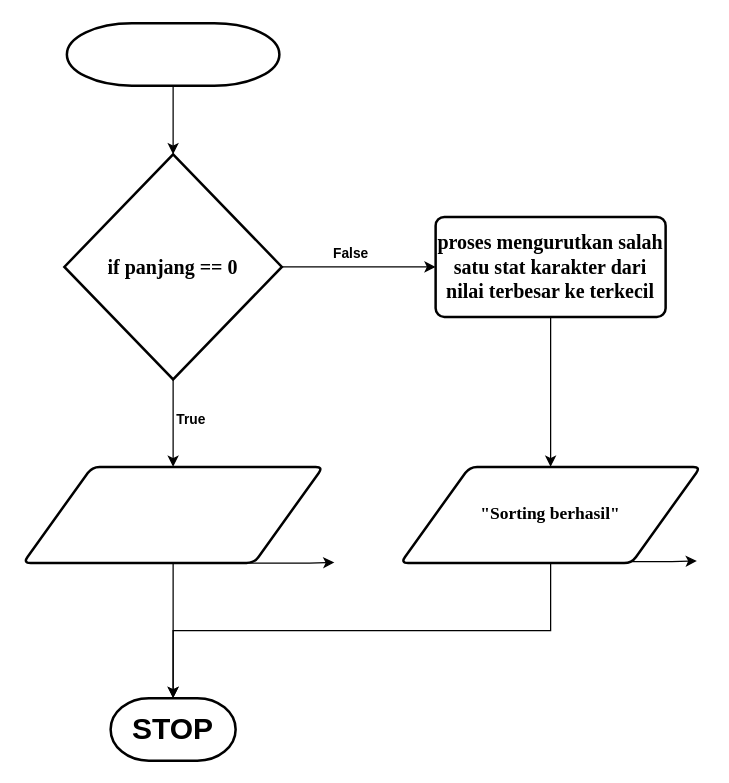
This 729x783 diagram has some shape labels left out. The box of each missing label's shape, as (x1, y1, x2, y2) in pixels:
"list kosong": (21, 465, 324, 564)
selectionSort: (65, 21, 280, 86)
